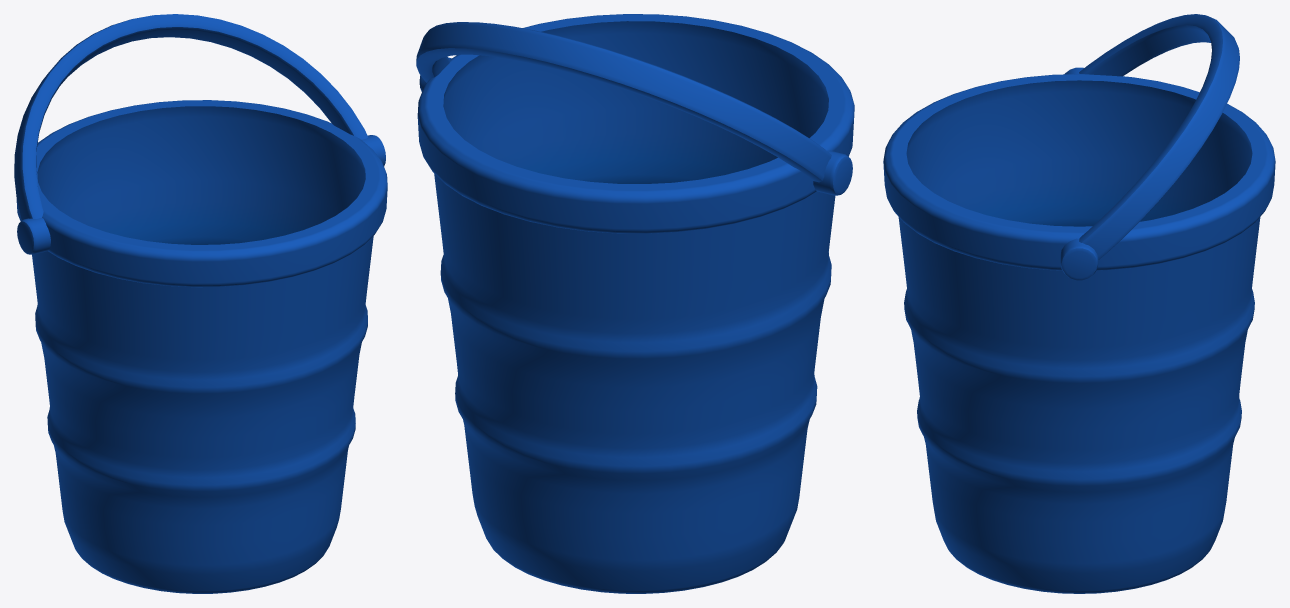
File: prop-bucket.glb
3 views of the same model, side by side, from view 1: azimuth 30°, elevation 25°; view 2: azimuth 150°, elevation 25°; view 3: azimuth 270°, elevation 25° (orthographic). The views are drawn at different scales.
Parts seen in each view (by area): view 1: body; view 2: body; view 3: body.
Boxes of the visible parts, box(x1,y1,x2,y2) form: body: box(14, 14, 387, 593); body: box(416, 14, 854, 593); body: box(883, 14, 1275, 593).
Bounding box in the file's own units: 0.144 × 0.184 × 0.1313.
